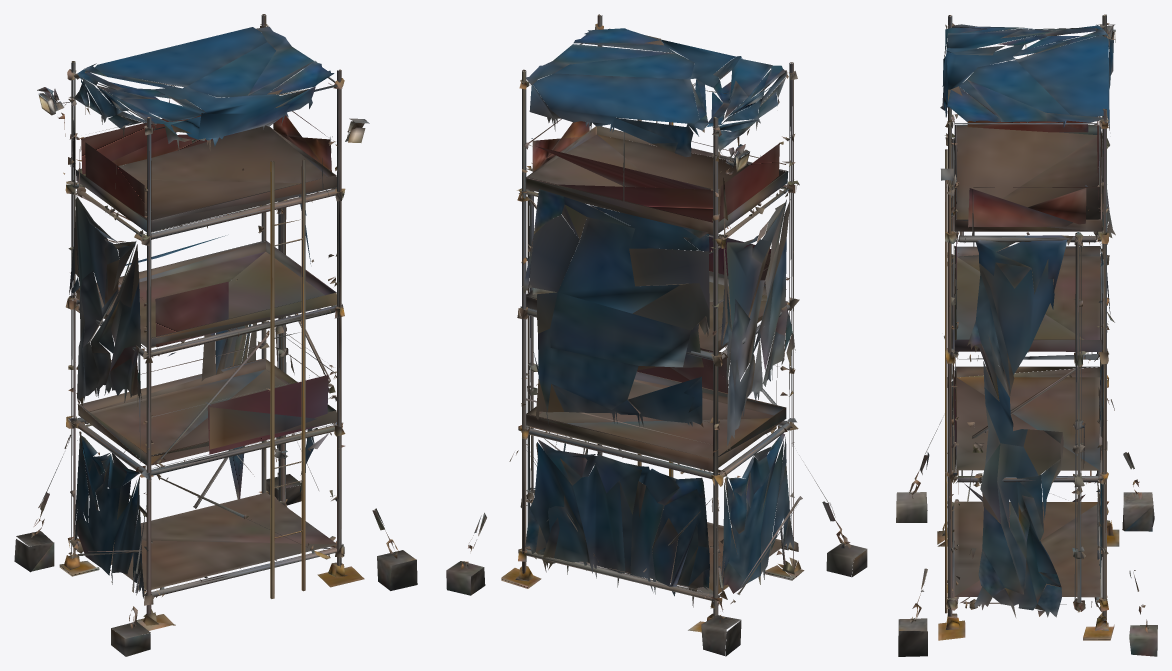
File: scaffold-far.glb
3 views of the same model, side by side, from view 1: azimuth 30°, elevation 25°; view 2: azimuth 150°, elevation 25°; view 3: azimuth 270°, elevation 25° (orthographic). The views are drawn at different scales.
Visible parts, largest first — view 1: scaffold; view 2: scaffold; view 3: scaffold.
Part boxes in pixels (x1=…): scaffold: x1=14, y1=14, x2=417, y2=656; scaffold: x1=446, y1=14, x2=867, y2=656; scaffold: x1=896, y1=14, x2=1157, y2=656.
Bounding box in the file's own units: 5.4 × 9 × 4.09.
Materials: 1 (1 with a texture image).
